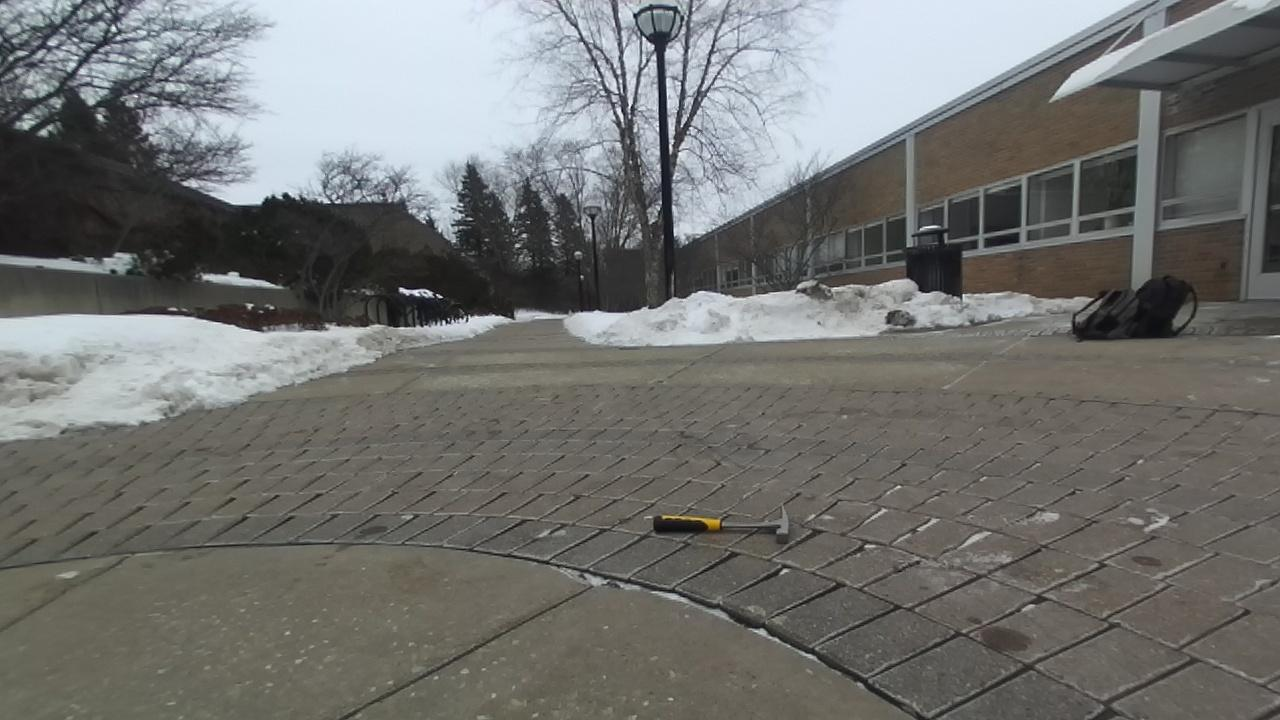pick: (652, 506, 790, 543)
